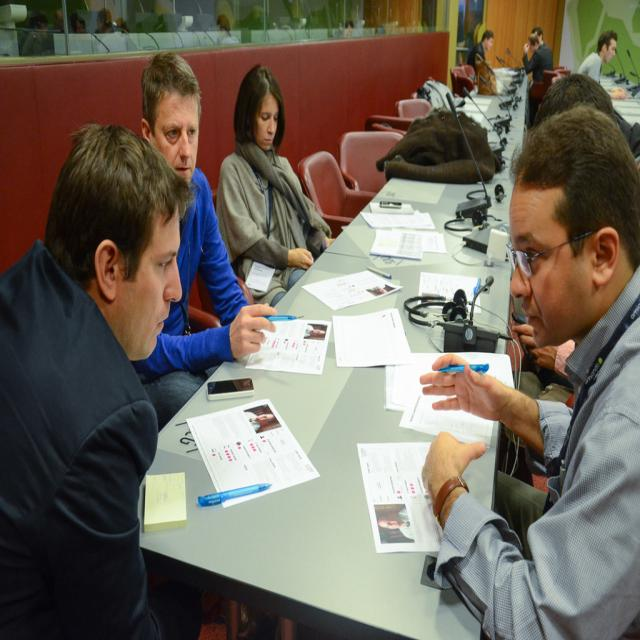no_helmet: (0, 166, 190, 348), (493, 169, 640, 338), (118, 132, 224, 238), (227, 145, 297, 216)
